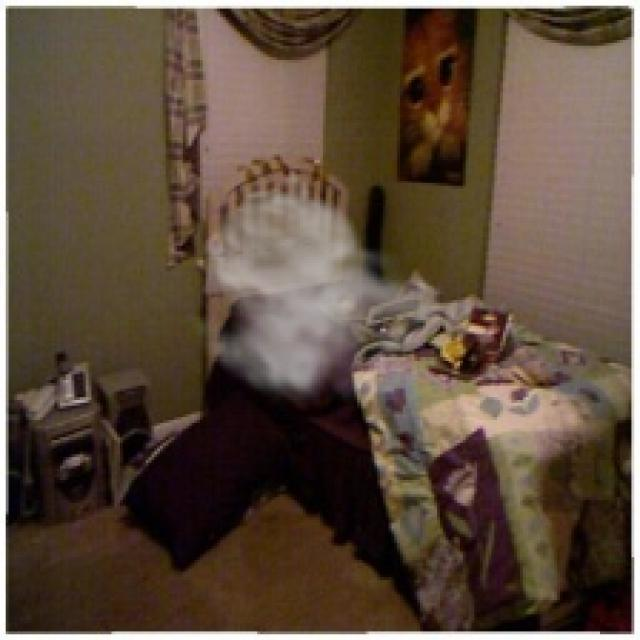Smoke: (177, 168, 460, 408)
